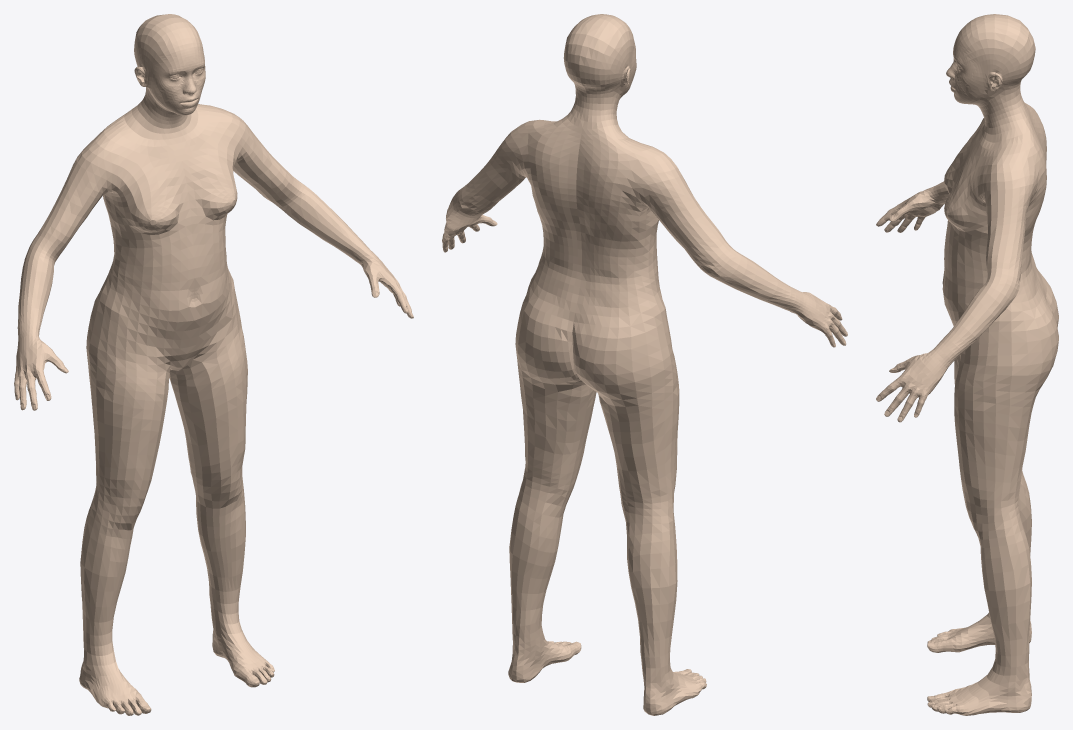
Rendered from female-young-heavy-toned.glb.
3 renders of one model, left to right at view 1: azimuth 30°, elevation 25°; view 2: azimuth 150°, elevation 25°; view 3: azimuth 270°, elevation 25°, orthographic.
Visible parts, largest first — view 1: world; view 2: world; view 3: world.
Boxes of the visible parts, box(x1,y1,x2,y2) form: world: box(14, 14, 413, 715); world: box(442, 14, 847, 715); world: box(876, 14, 1058, 715).
Size of the model in its own units: 1.09 by 1.76 by 0.4402.
